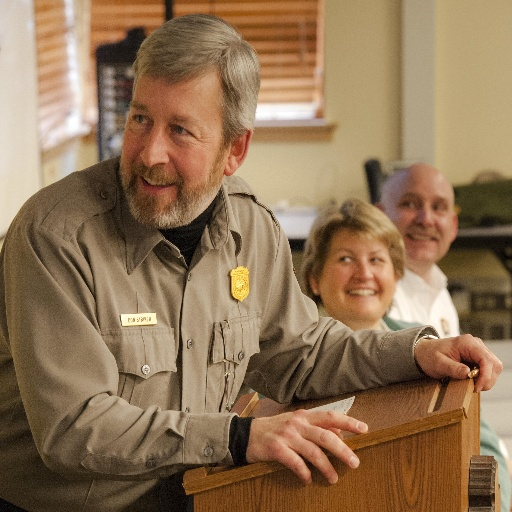hand: (242, 406, 369, 488), (417, 328, 504, 400)
